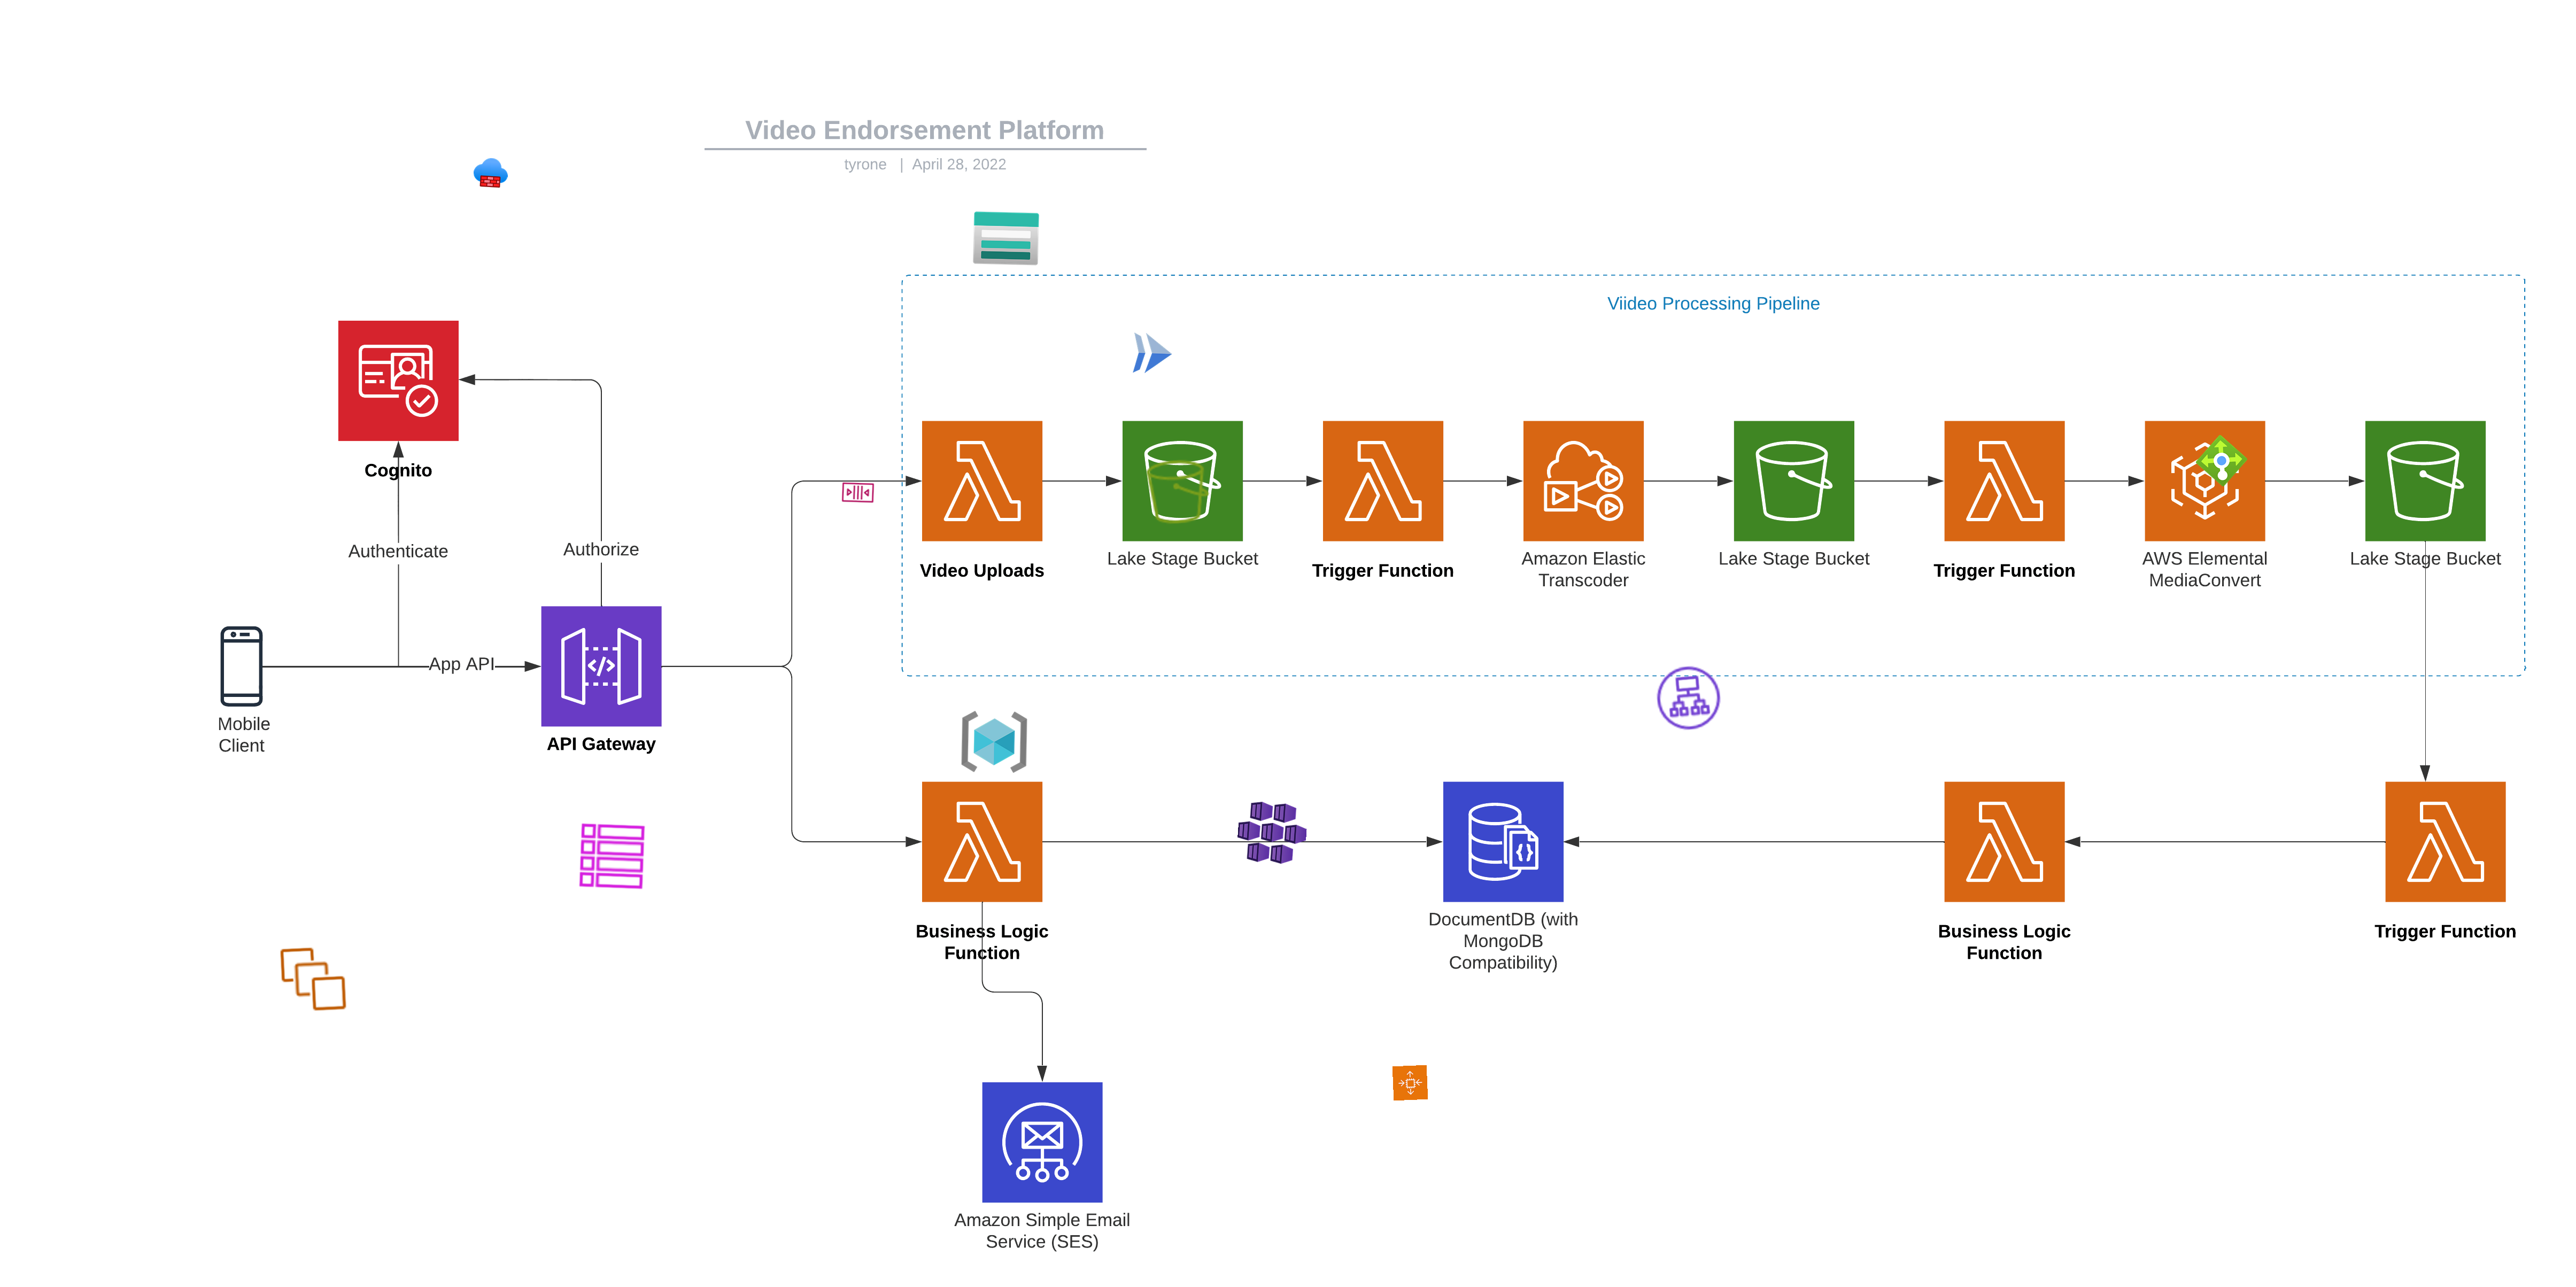aws_amazon_ec2_auto_scaling: (1392, 1065, 1428, 1102)
aws_dynamodb_table: (577, 821, 647, 891)
aws_ec2_instances: (278, 944, 348, 1014)
aws_elastic_load_balancing_application_load_balancer: (1651, 660, 1727, 735)
aws_simple_queue_service_queue: (840, 474, 876, 511)
aws_simple_storage_service_bucket: (1142, 455, 1214, 529)
azure_firewalls: (473, 154, 509, 190)
azure_kubernetes_services: (1235, 795, 1309, 868)
azure_load_balancers: (2195, 433, 2249, 488)
azure_resource_groups: (959, 706, 1030, 776)
azure_storage_accounts: (971, 204, 1042, 274)
gcp_cloud_run: (1125, 327, 1178, 379)
